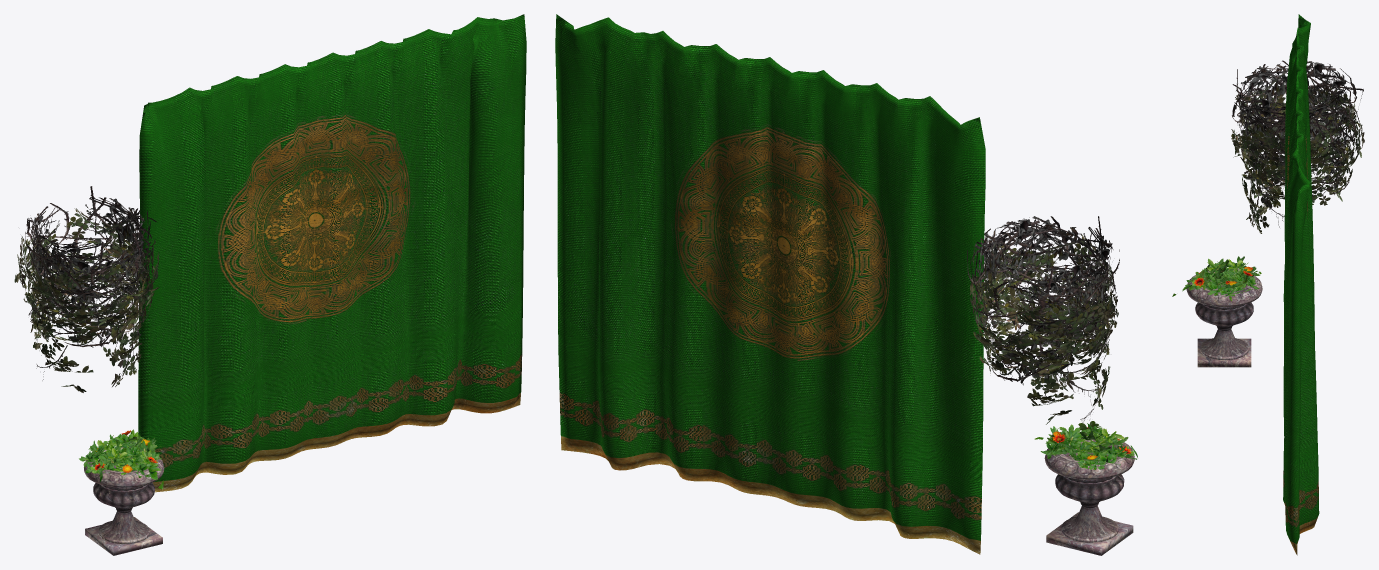
The picture shows the model from 3 angles, left to right: view 1: azimuth 30°, elevation 25°; view 2: azimuth 150°, elevation 25°; view 3: azimuth 270°, elevation 25°; orthographic projection. The views are drawn at different scales.
Parts seen in each view (by area): view 1: sponza:sponza_327, sponza:sponza_278, sponza:sponza_01; view 2: sponza:sponza_327, sponza:sponza_278, sponza:sponza_01; view 3: sponza:sponza_327, sponza:sponza_278, sponza:sponza_01.
Part boxes in pixels (x1,y1,x2,y2): sponza:sponza_327: (138,14,526,492); sponza:sponza_278: (14,186,159,392); sponza:sponza_01: (79,429,164,555); sponza:sponza_327: (555,14,985,554); sponza:sponza_278: (967,216,1119,424); sponza:sponza_01: (1034,421,1137,555); sponza:sponza_327: (1283,14,1319,555); sponza:sponza_278: (1231,60,1364,233); sponza:sponza_01: (1172,256,1262,367).
Size of the model in its own units: 372 by 131 by 283.
Materials: 4 (4 with a texture image).
